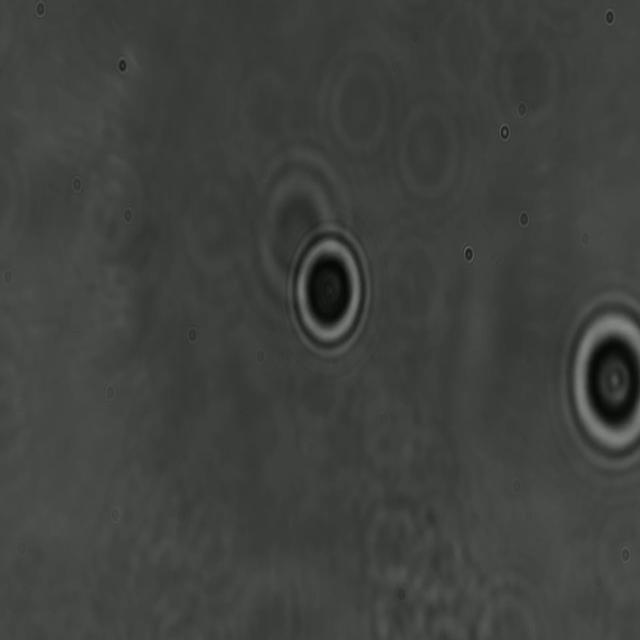DCELL: (286, 214, 374, 368)
